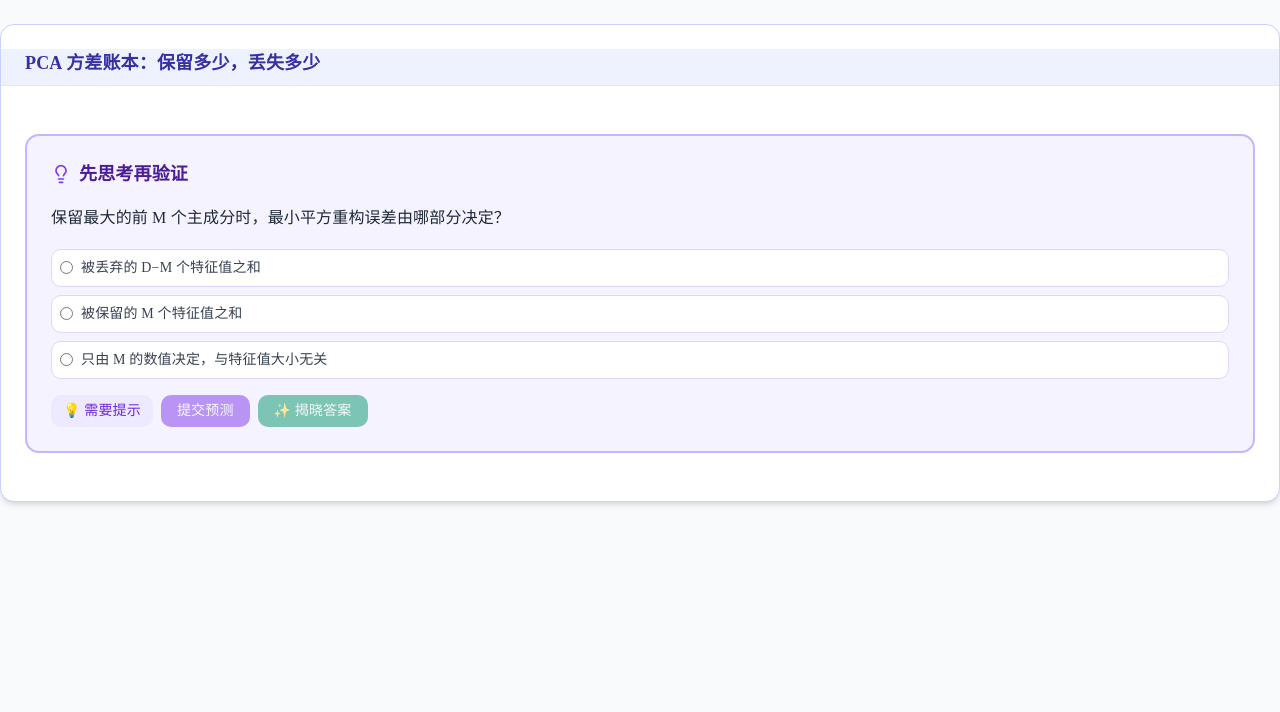
chapter 13 continuous latent variables teaching-ready loop › gates the pca lab until a prediction is submitted
Click the radio button labelled "被丢弃的 D−M 个特征值之和" at (66, 268), box [60,261,73,274]
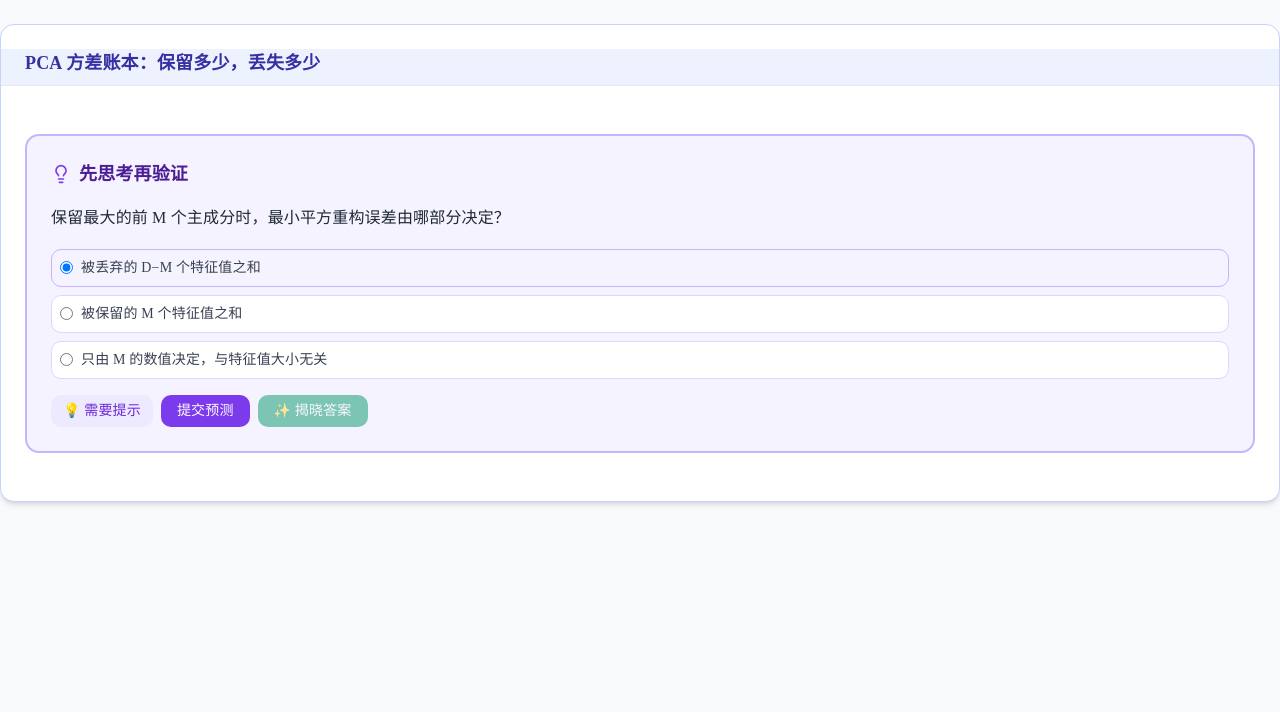
Click the button "提交预测" at (205, 411), box [161,395,250,427]
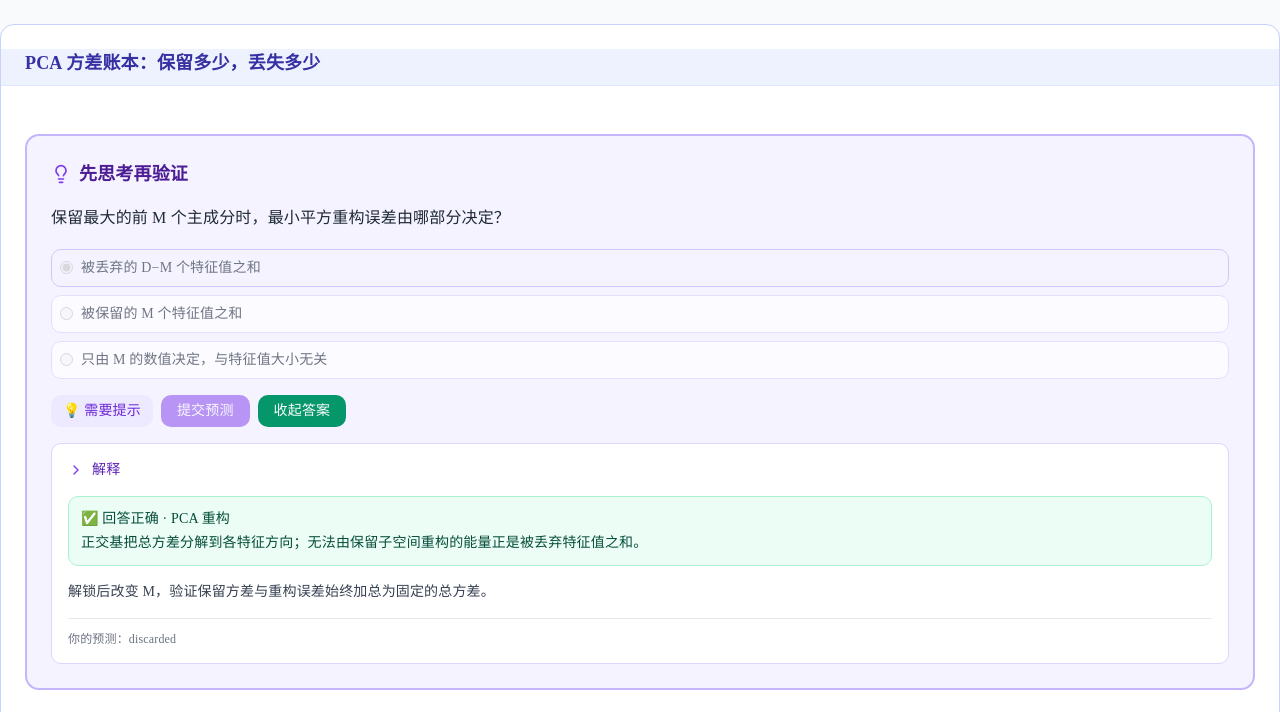
Now the element with test id "evaluation-feedback" shows "回答正确", box [81,511,159,526]
